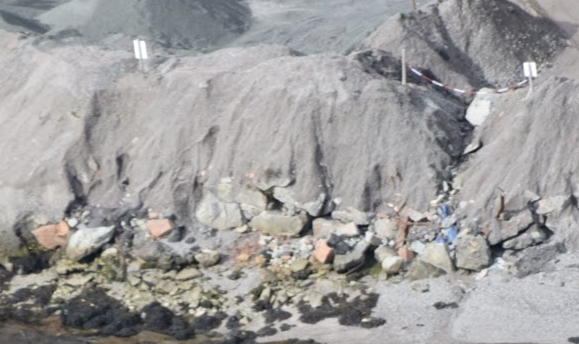scattered_barrel: (386, 192, 476, 262)
